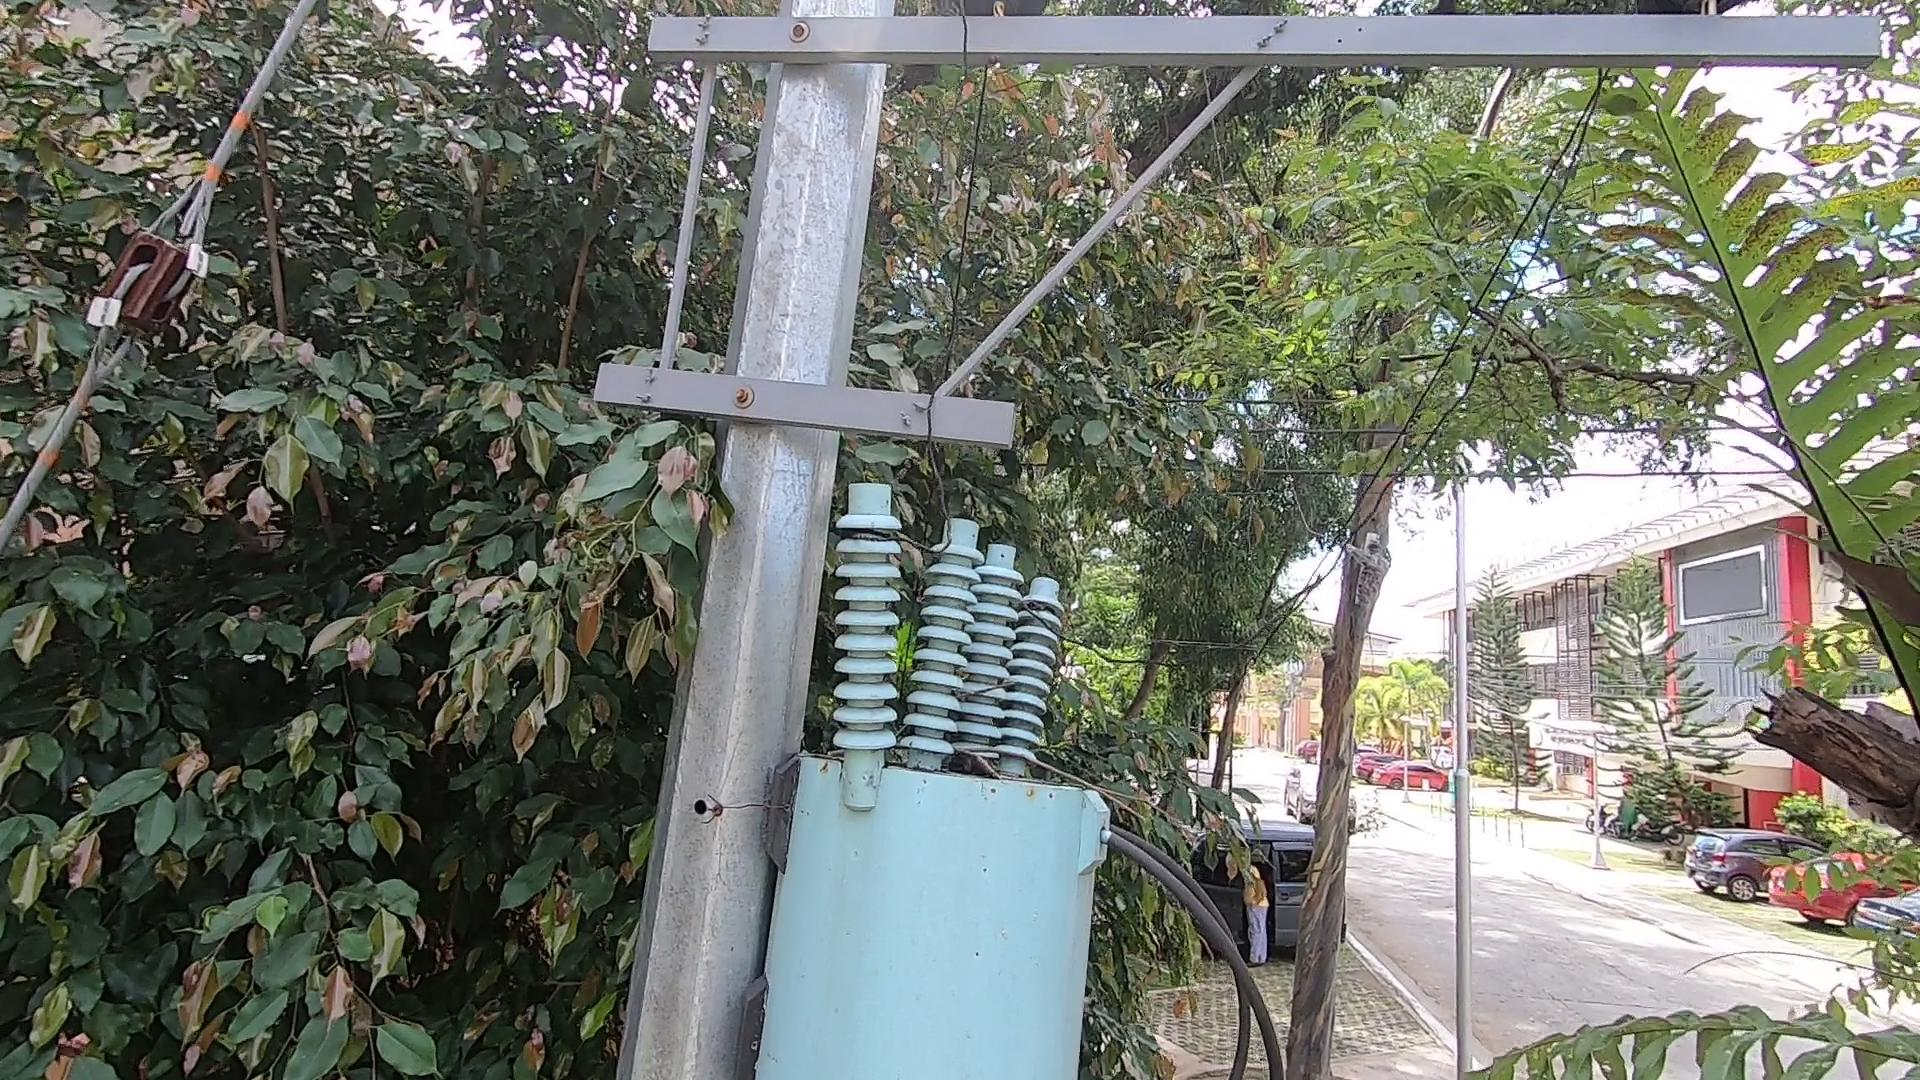leaf: (938, 748, 1001, 787)
tree branch: (877, 717, 1149, 832)
